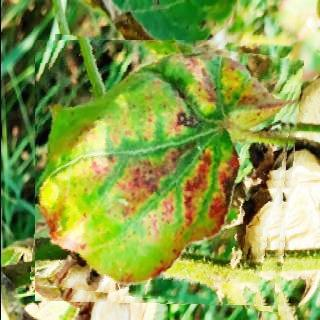blight: (34, 40, 296, 306)
